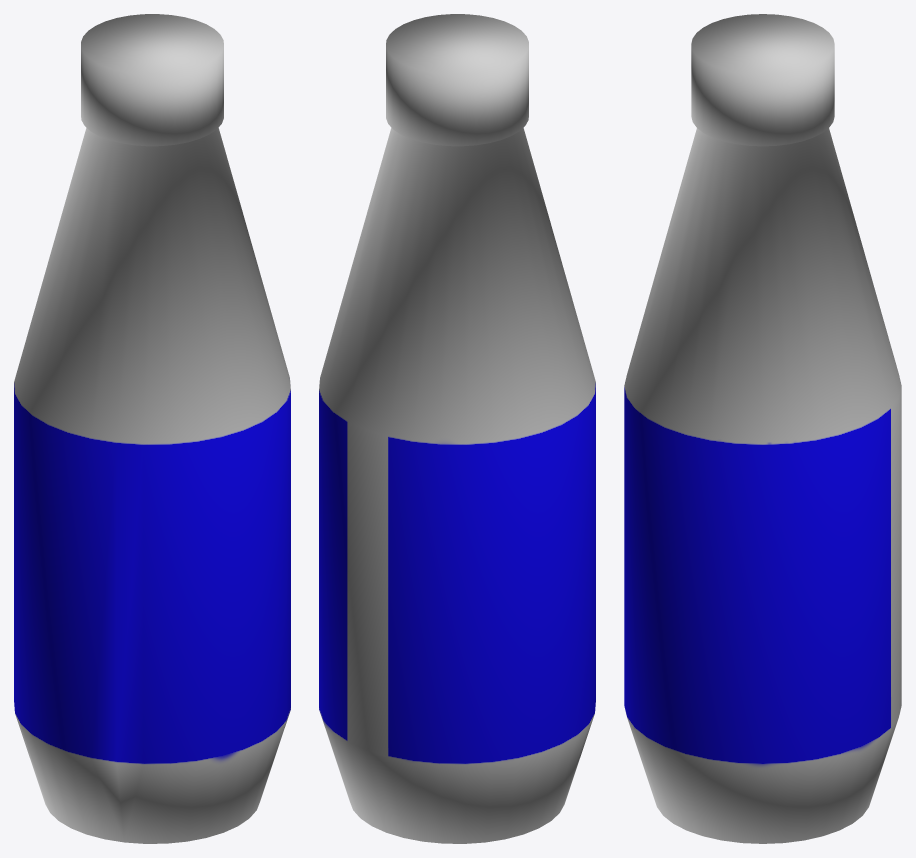
Rendered from blueBottle.fbx.
The picture shows the model from 3 angles, left to right: view 1: azimuth 30°, elevation 25°; view 2: azimuth 150°, elevation 25°; view 3: azimuth 270°, elevation 25°; orthographic projection.
Parts seen in each view (by area): view 1: Cylinder; view 2: Cylinder; view 3: Cylinder.
Boxes of the visible parts, x1,y1,x2,y2 form: Cylinder: (14,14,290,843); Cylinder: (319,14,595,843); Cylinder: (624,14,901,843).
Bounding box in the file's own units: 0.06 × 0.06 × 0.18.
